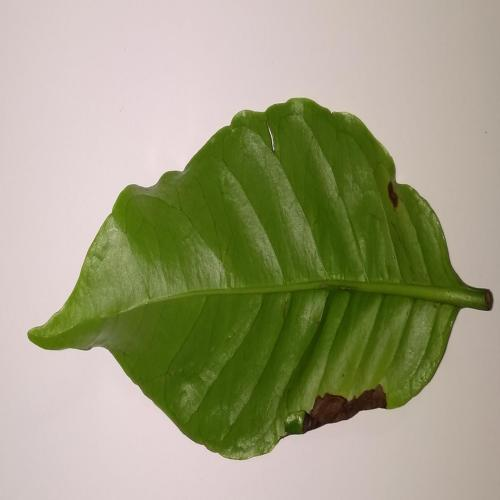miner: (388, 182, 398, 208)
